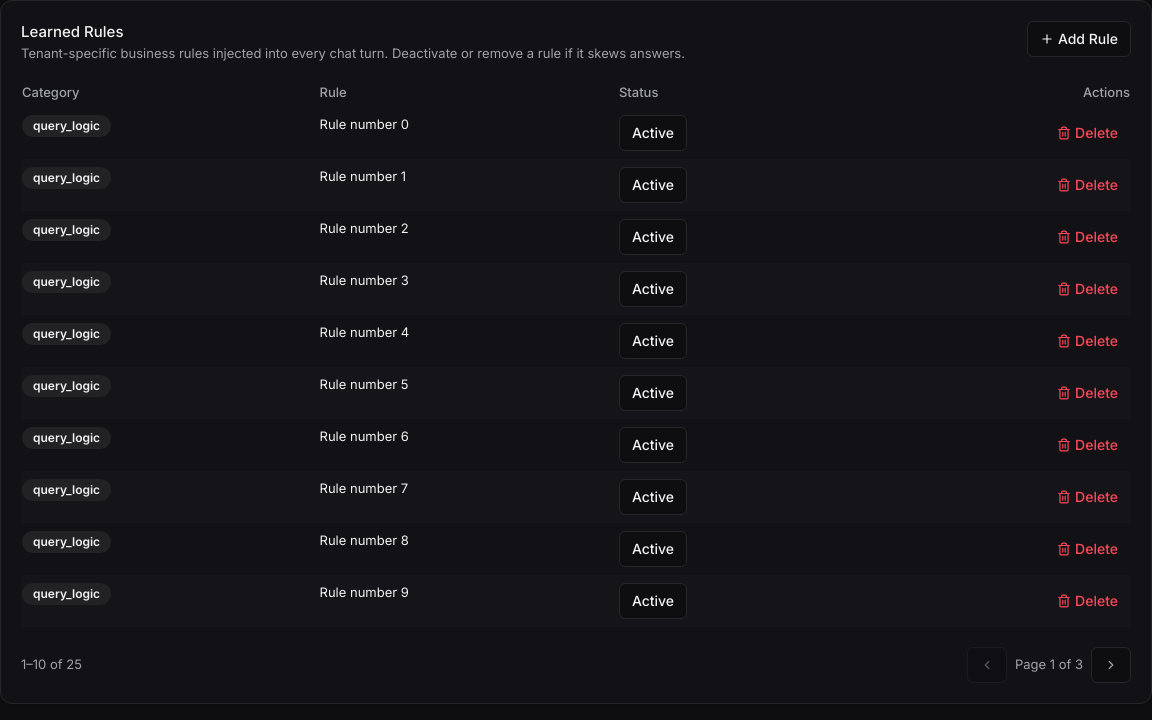
Scenario: LearnedRulesSection › paginates 10 rules per page with working prev/next
Check: the text "Rule number 0" is shown, box [318,106,618,158]
Check: the text "Rule number 9" is shown, box [318,574,618,626]
// Next page shows the next 10.
Click the button named "next page" at (1111, 664), box [1091,646,1131,682]
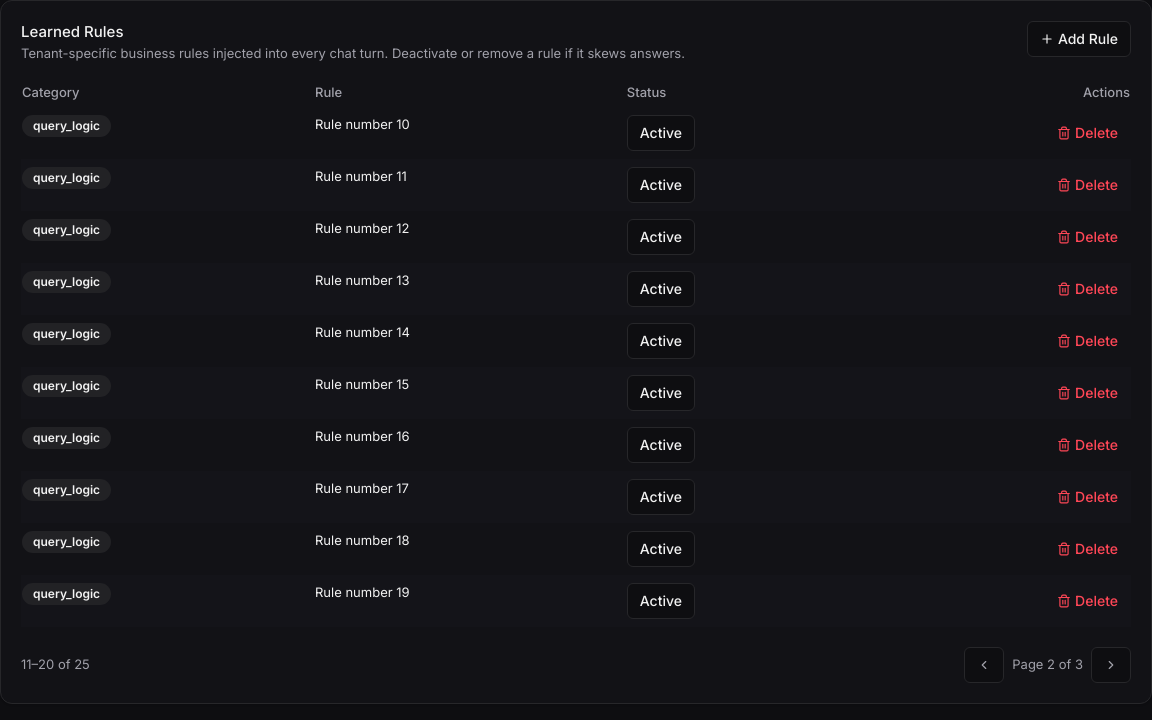
Check: the text "Rule number 10" is shown, box [314,106,626,158]
Check: the text "Rule number 0" is gone
Check: the text "Page 2 of 3" is shown, box [1012,655,1083,674]
